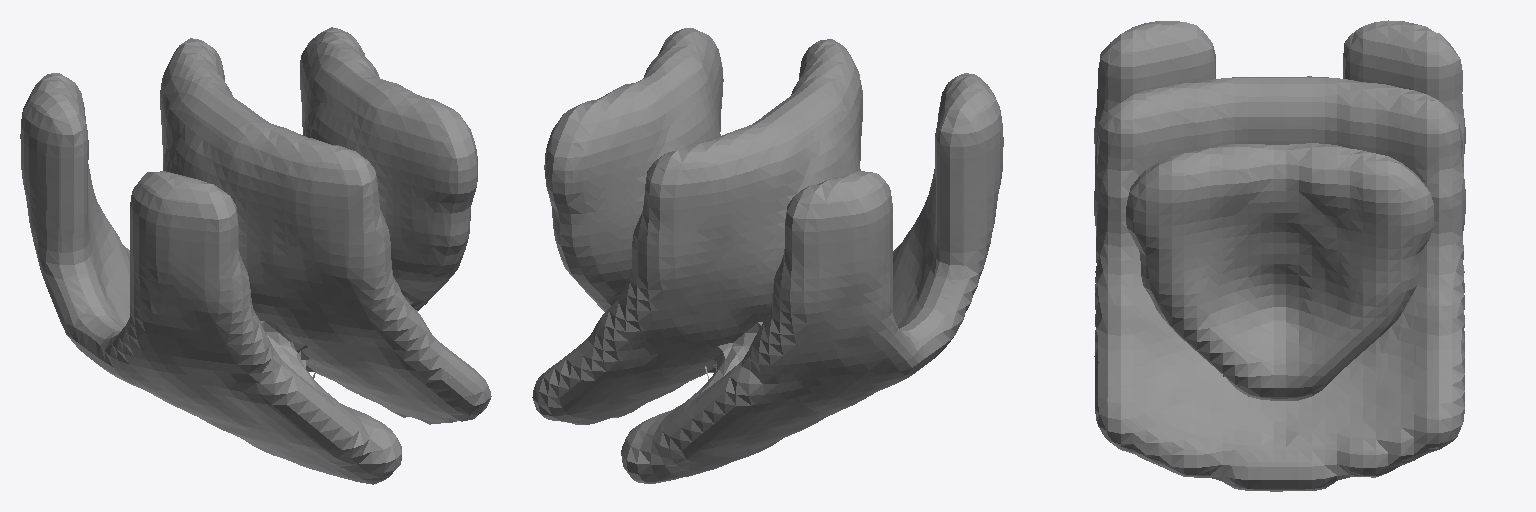
robot.urdf — cube.urdf:
<?xml version="0.0" ?> 
<robot name="cube.urdf"> 
<link name="legobrick"> 
<contact> 
<lateral_friction value="5.0"/> 
<rolling_friction value="0.0"/> 
<contact_cfm value="0.0"/> 
<contact_erp value="1.0"/> 
</contact> 
<inertial> 
<origin rpy="0 0 0" xyz="0.0 0.0 0.0"/> 
<mass value=".01"/> 
<inertia ixx="1" ixy="0" ixz="0" iyy="1" iyz="0" izz="1"/> 
</inertial> 
<visual> 
<origin rpy="1.570796 0 0" xyz="-0.028417939910296456 0.026094695774125373 -0.025730272303365304"/> 
<geometry> 
<mesh filename="N11_2.obj" scale="0.0006952876388361875 0.0006952876388361875 0.0006952876388361875"/> 
</geometry> 
<material name="yellow"> 
<color rgba="0.6 0.6 0.6 1"/> 
</material> 
</visual> 
<collision> 
<origin rpy="1.570796 0 0" xyz="-0.028417939910296456 0.026094695774125373 -0.025730272303365304"/> 
<geometry> 
<mesh filename="N11_2.obj" scale="0.0006952876388361875 0.0006952876388361875 0.0006952876388361875"/> 
</geometry> 
</collision> 
</link> 
</robot>

--- Render facts (derived) ---
3 views of the same robot in one strip: view 1: azimuth 30°, elevation 25°; view 2: azimuth 150°, elevation 25°; view 3: azimuth 270°, elevation 25° (orthographic).
Robot: cube.urdf — 1 links, 0 joints (none); root link legobrick; default pose: all joints at 0.
Links seen in each view (by area): view 1: legobrick; view 2: legobrick; view 3: legobrick.
Boxes of the visible links, box(x1,y1,x2,y2) form: legobrick: box(20, 27, 491, 484); legobrick: box(532, 28, 1003, 483); legobrick: box(1094, 20, 1465, 491).
Size in the robot's own frame: 0.0564 by 0.0556 by 0.056 metres.
1 mesh visuals loaded from 1 distinct referenced files (1 OBJ).
